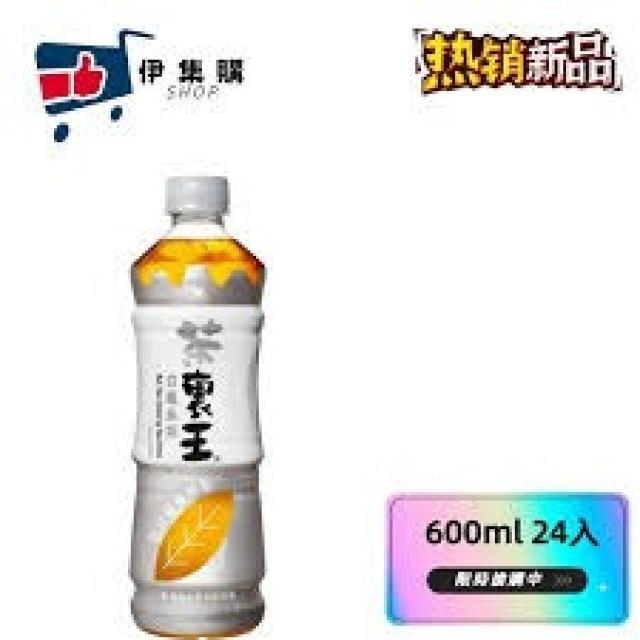ChaLiWong_WhiteOolong: (125, 174, 279, 634)
